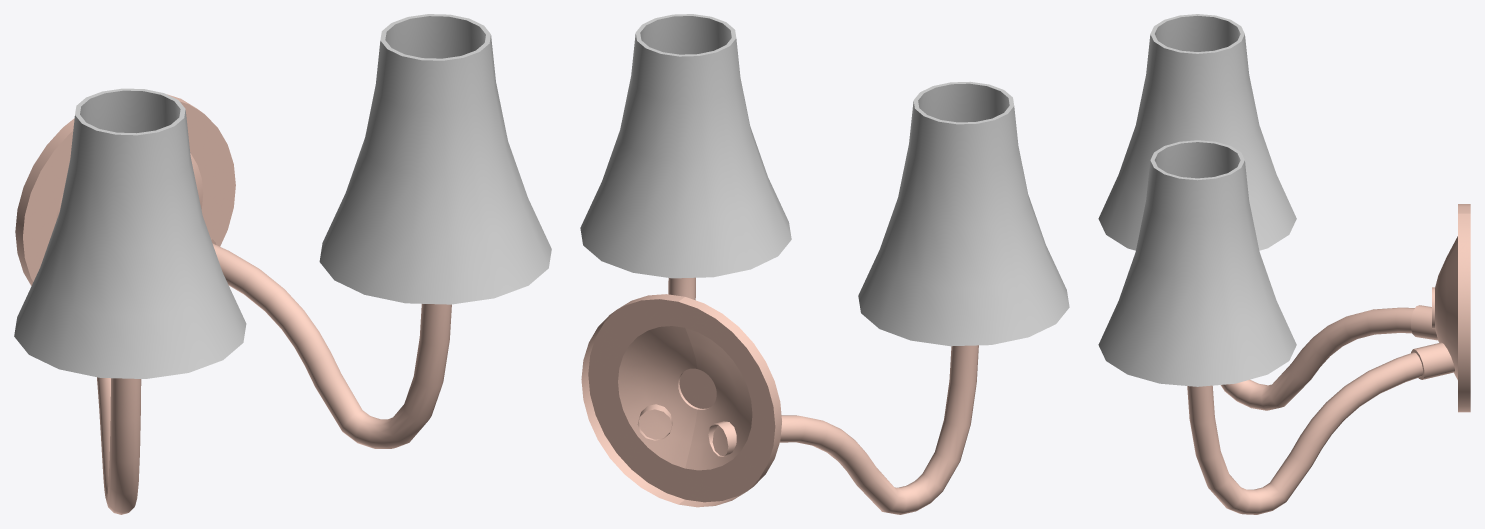
The model's file is Shop_Wall_Lamp.fbx.
The picture shows the model from 3 angles, left to right: view 1: azimuth 30°, elevation 25°; view 2: azimuth 150°, elevation 25°; view 3: azimuth 270°, elevation 25°; orthographic projection. The views are drawn at different scales.
Visible parts, largest first — view 1: Wall_Lamp; view 2: Wall_Lamp; view 3: Wall_Lamp.
Part boxes in pixels (x1=…): Wall_Lamp: x1=14, y1=14, x2=551, y2=514; Wall_Lamp: x1=580, y1=14, x2=1069, y2=514; Wall_Lamp: x1=1098, y1=14, x2=1470, y2=514.
Bounding box in the file's own units: 55.09 × 44.46 × 41.24.
